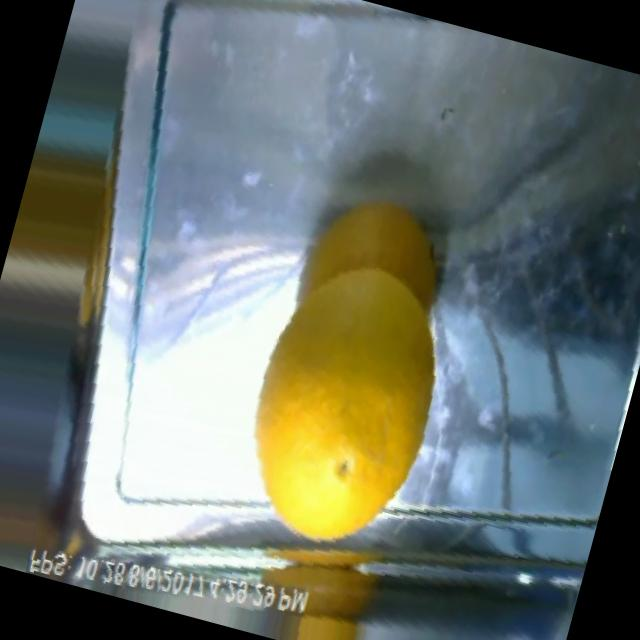Fruit: (261, 157, 488, 387)
